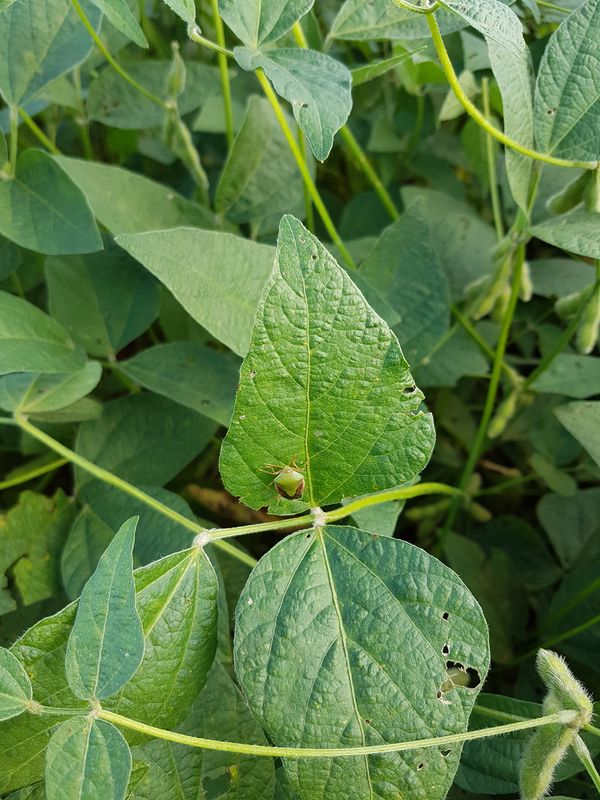Edessa_meditabunda: (256, 448, 315, 515)
